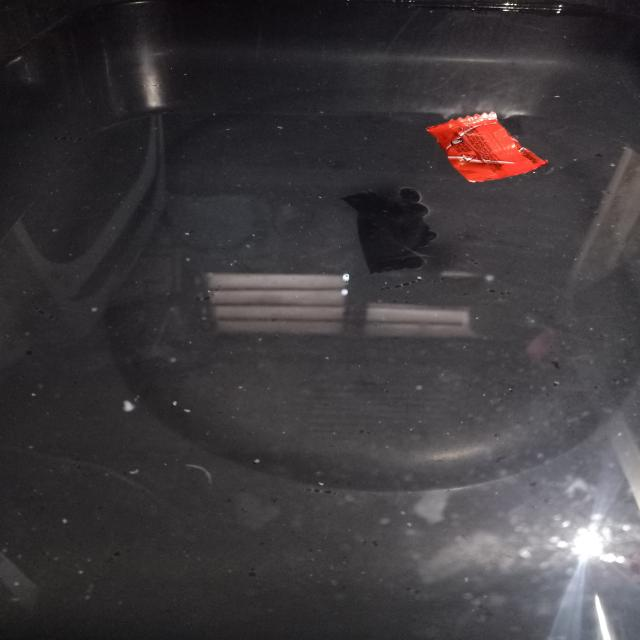Plastic Wrapper: (426, 112, 547, 182)
